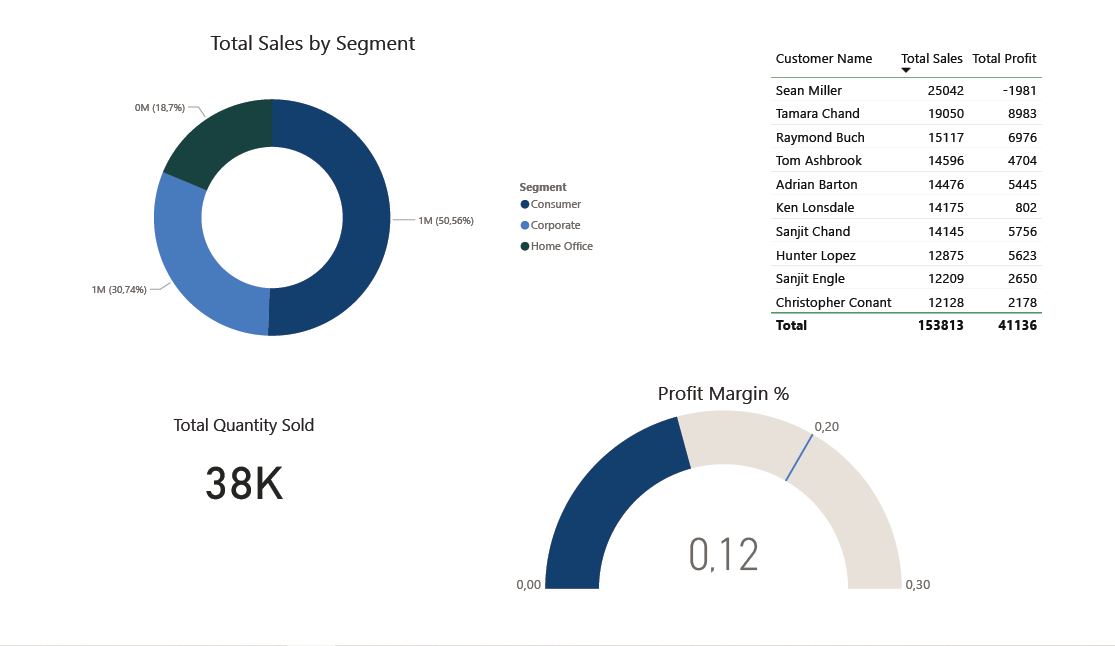

Layout of this report page (visuals, bound fields, positions):
{"tool":"powerbi","page":{"name":"Customer Insights","canvas":[1280,720],"ordinal":1},"visuals":[{"type":"donutChart","fields":{"Category":["Orders.Segment"],"Y":["DateTable .Total Sales"]},"box":[0,10.1,697,417.6],"z":0},{"type":"tableEx","fields":{"Values":["Orders.Customer Name","DateTable .Total Sales","DateTable .Total Profit"]},"box":[889,26,360.5,365.1],"z":1000},{"type":"gauge","fields":{"Y":["DateTable .Profit Margin %"]},"box":[545.8,427.7,583.2,259.2],"z":2000},{"type":"card","title":"Total Quantity Sold","fields":{"Values":["DateTable .Total Quantity"]},"box":[164.6,467,203.3,127.7],"z":3000}]}

Visuals, with their boxes in screenshot pixels (x1, y1, x2, y2), scaled from the page's 1280x720 canvas onto the 1115x646 screenshot:
donutChart - Orders.Segment x DateTable .Total Sales: 0:9:607:384
tableEx - Orders.Customer Name x DateTable .Total Sales: 774:23:1088:351
gauge - DateTable .Profit Margin %: 475:384:983:616
"Total Quantity Sold" card: 143:419:320:534
